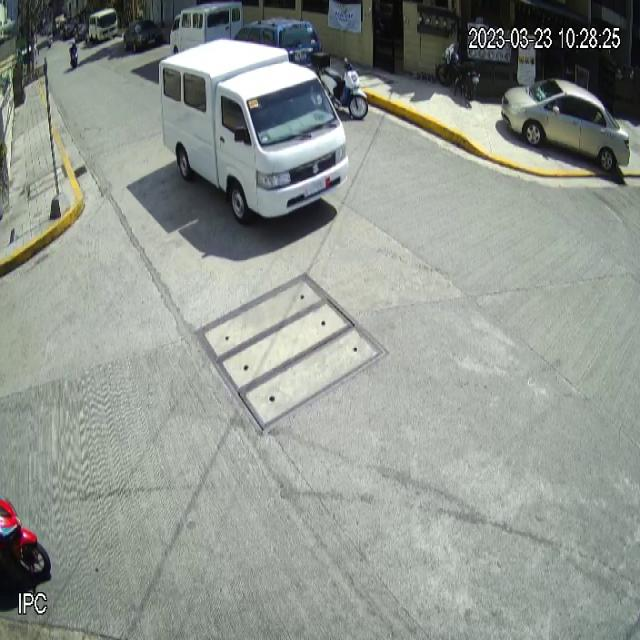Car: (501, 76, 631, 172)
Van: (158, 38, 350, 225)
